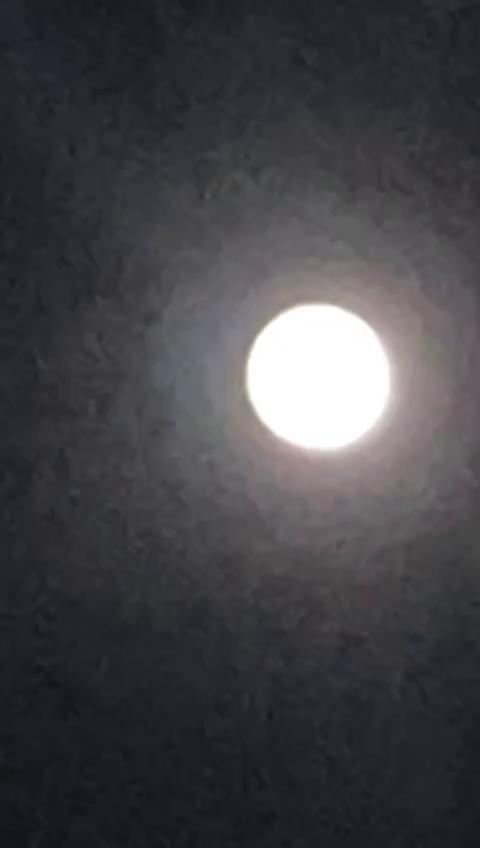moon: (232, 300, 402, 459)
